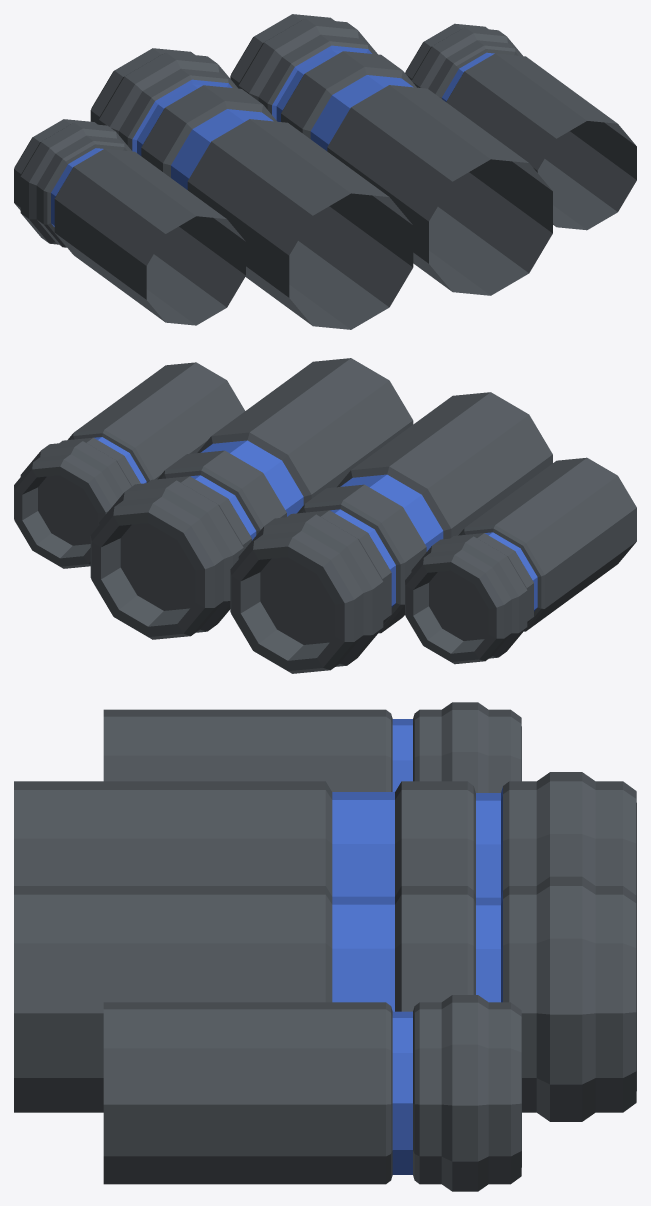
File: Fighter_09_Thrusters_Blue.fbx
The picture shows the model from 3 angles, top to bottom: view 1: azimuth 30°, elevation 25°; view 2: azimuth 150°, elevation 25°; view 3: azimuth 270°, elevation 25°; orthographic projection. The views are drawn at different scales.
Visible parts, largest first — view 1: Fighter_09_Thrusters_Blue; view 2: Fighter_09_Thrusters_Blue; view 3: Fighter_09_Thrusters_Blue.
Boxes of the visible parts, x1,y1,x2,y2 form: Fighter_09_Thrusters_Blue: (14,14,636,329); Fighter_09_Thrusters_Blue: (14,358,636,673); Fighter_09_Thrusters_Blue: (14,702,636,1191).
Bounding box in the file's own units: 343 × 97.08 × 242.
Materials: 2 (2 with a texture image).
